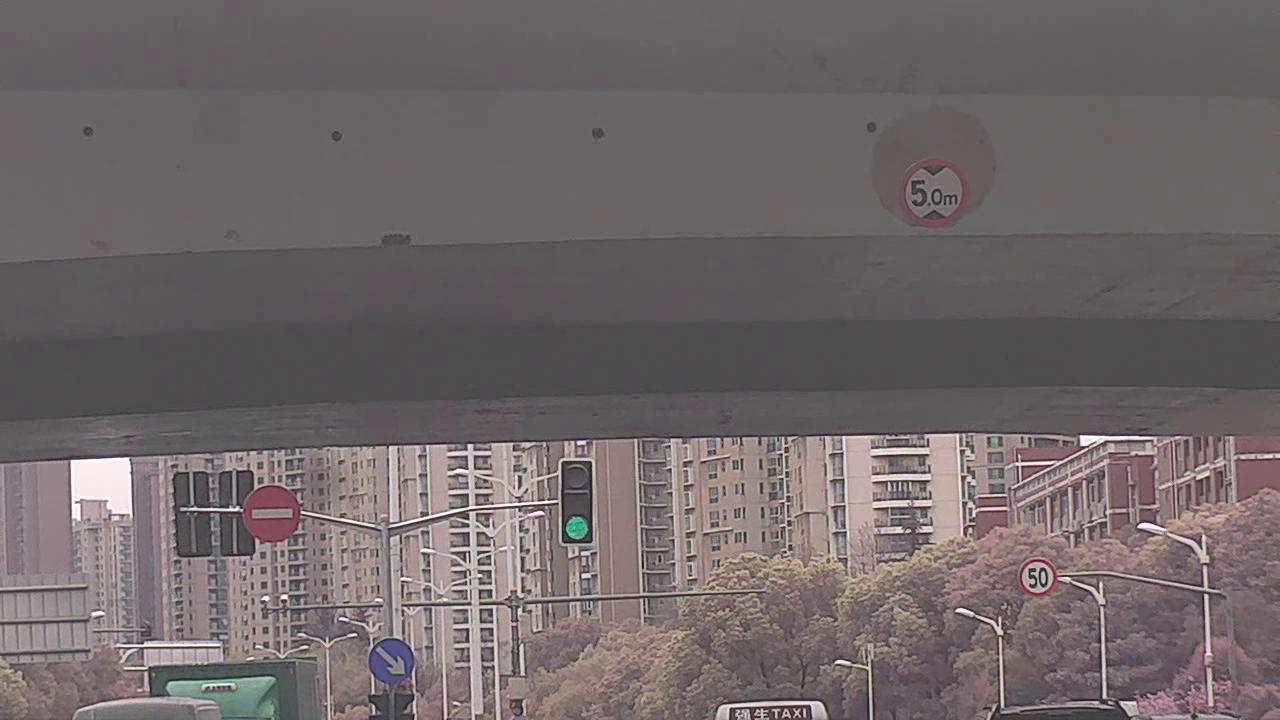traffic_light: (563, 458, 598, 545)
